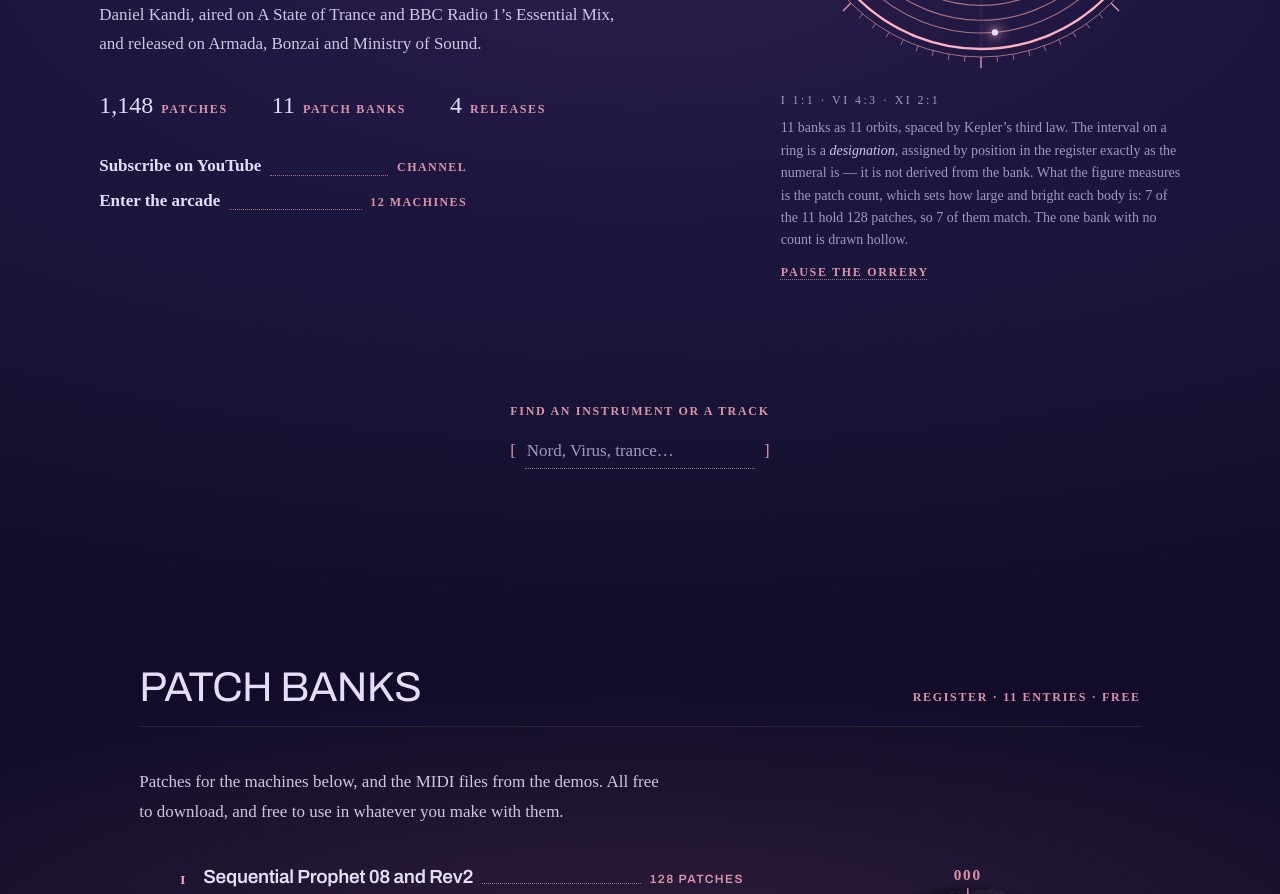
AlmanacApp › puts both back when the finder is cleared
(page scrolled)
Expected: the text "releases" is shown, [470,100,546,118]
Type "Nord" into the search field labelled "Find an instrument or a track" at (640,451), box [525,432,755,469]
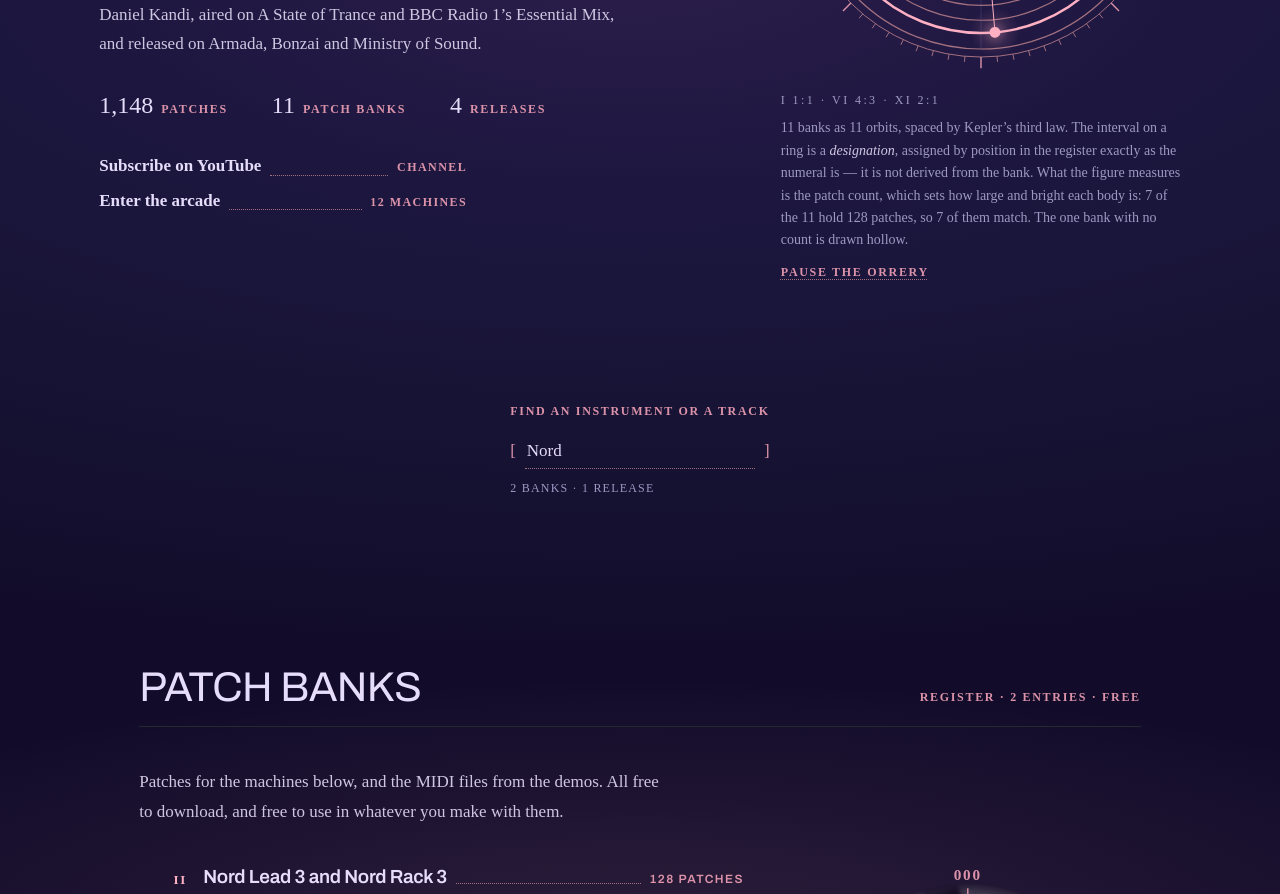
Expected: the text "Sequential Prophet 08 and Rev2" is not shown
Clear the search field labelled "Find an instrument or a track" at (640,451), box [525,432,755,469]
(page scrolled)
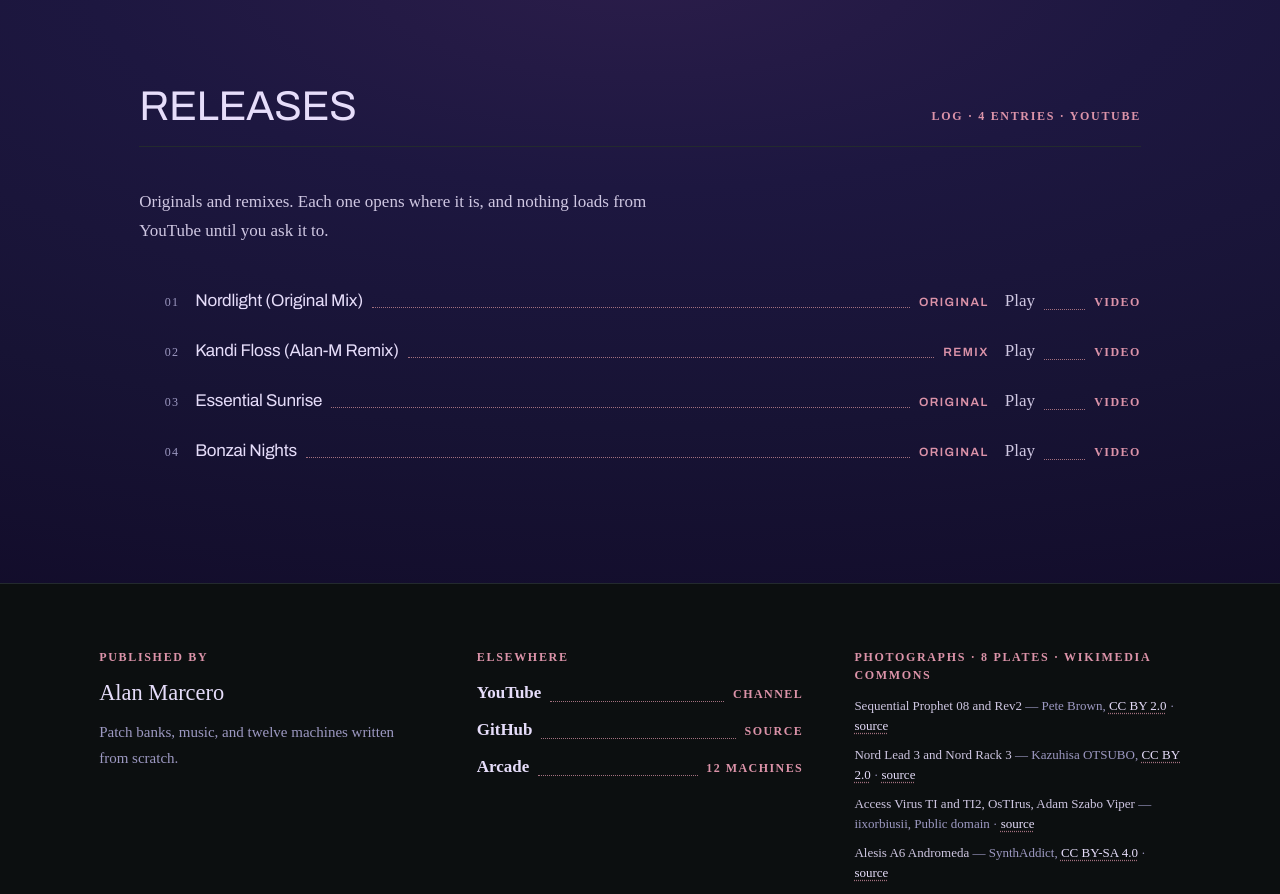
Result: the text "Bonzai Nights" is shown at [195,438,297,463]
